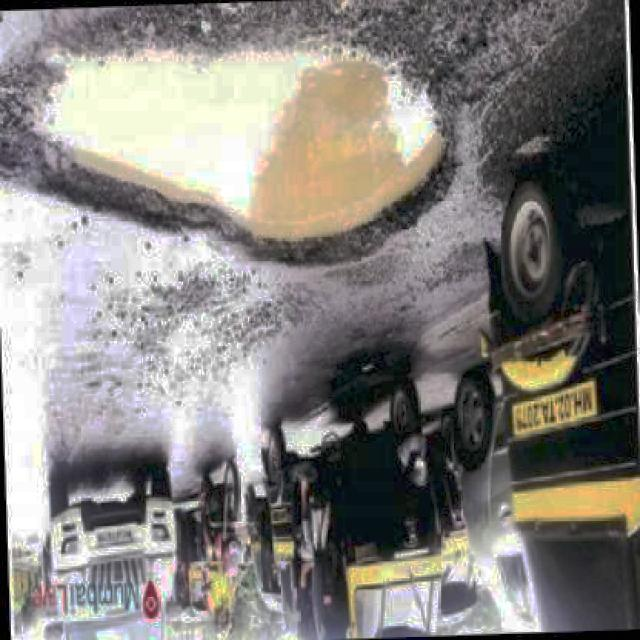pothole: (3, 12, 468, 277)
